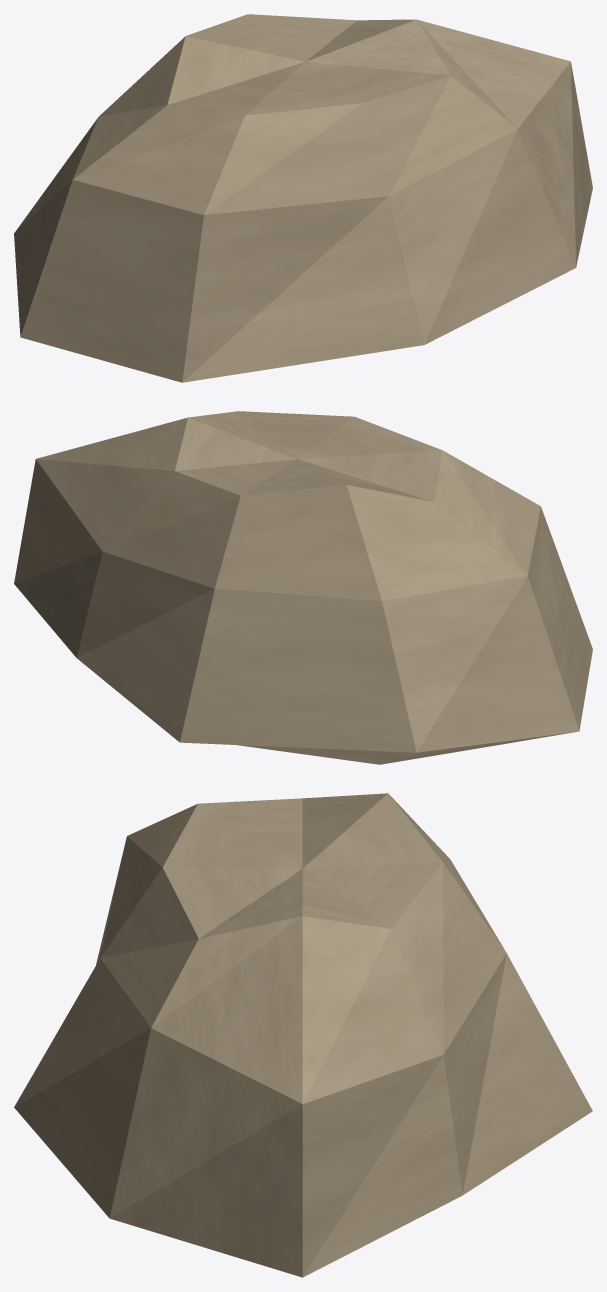
File: SM_CN_Caliche_B_LOD1.glb
The picture shows the model from 3 angles, top to bottom: view 1: azimuth 30°, elevation 25°; view 2: azimuth 150°, elevation 25°; view 3: azimuth 270°, elevation 25°; orthographic projection. The views are drawn at different scales.
Parts seen in each view (by area): view 1: SM_CN_Caliche_B_LOD1; view 2: SM_CN_Caliche_B_LOD1; view 3: SM_CN_Caliche_B_LOD1.
Boxes of the visible parts, bbox=[...] form: SM_CN_Caliche_B_LOD1: bbox=[14, 14, 592, 382]; SM_CN_Caliche_B_LOD1: bbox=[14, 411, 592, 764]; SM_CN_Caliche_B_LOD1: bbox=[14, 793, 592, 1277].
Bounding box in the file's own units: 0.88 × 0.37 × 0.634.
1 material, 1 textured.
